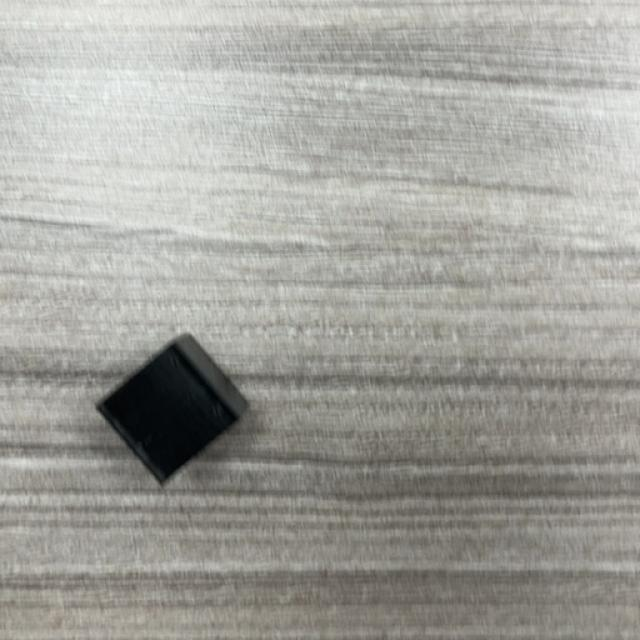Negro: (94, 334, 250, 486)
